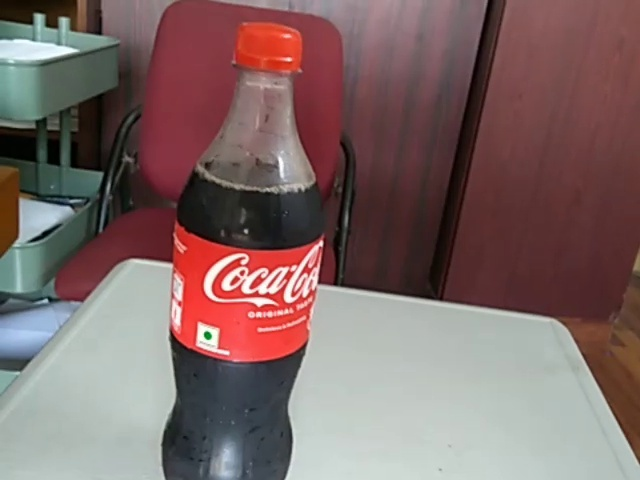Cocacola: (163, 19, 329, 480)
